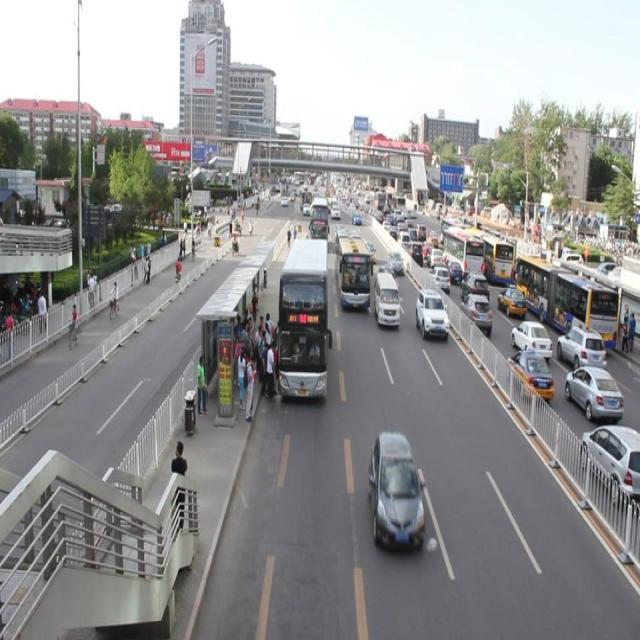car: (368, 429, 423, 548), (417, 290, 447, 342), (386, 250, 402, 276), (374, 261, 389, 288), (360, 242, 375, 265), (329, 200, 340, 218), (351, 212, 361, 226), (302, 202, 311, 214)
truck: (374, 271, 399, 330)
van: (278, 240, 329, 398), (334, 224, 370, 312), (310, 195, 327, 241)
